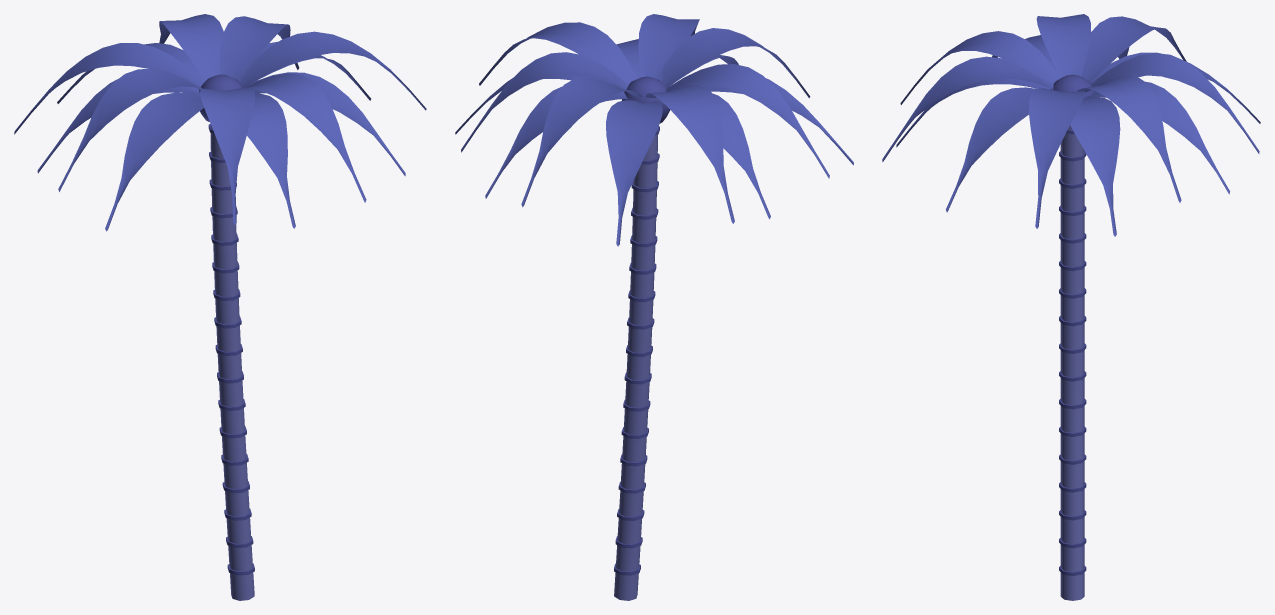
The model's file is palm.glb.
3 views of the same model, side by side, from view 1: azimuth 30°, elevation 25°; view 2: azimuth 150°, elevation 25°; view 3: azimuth 270°, elevation 25° (orthographic). The views are drawn at different scales.
Visible parts, largest first — view 1: baked0, baked10, baked11, baked13, baked9, baked15, baked1, baked7, baked12, baked3, baked5, baked14 (+2 smaller); view 2: baked0, baked6, baked7, baked1, baked5, baked9, baked15, baked11, baked3, baked13, baked8, baked4 (+1 smaller); view 3: baked0, baked2, baked15, baked1, baked3, baked14, baked13, baked7, baked5, baked9, baked11, baked4 (+2 smaller).
Boxes of the visible parts, <box> form: baked0: <box>210,123,254,600</box>; baked10: <box>105,92,203,231</box>; baked11: <box>200,87,255,224</box>; baked13: <box>245,73,366,202</box>; baked9: <box>58,68,202,191</box>; baked15: <box>239,31,426,110</box>; baked1: <box>199,74,254,575</box>; baked7: <box>14,43,204,134</box>; baked12: <box>247,93,295,228</box>; baked3: <box>219,16,299,80</box>; baked5: <box>159,14,223,80</box>; baked14: <box>244,72,405,176</box>; baked0: <box>614,134,657,600</box>; baked6: <box>606,100,662,246</box>; baked7: <box>645,85,734,223</box>; baked1: <box>614,76,669,575</box>; baked5: <box>521,77,642,207</box>; baked9: <box>666,64,829,178</box>; baked15: <box>479,22,637,85</box>; baked11: <box>657,28,810,98</box>; baked3: <box>461,52,628,152</box>; baked13: <box>638,14,699,81</box>; baked8: <box>653,93,770,219</box>; baked4: <box>485,86,630,198</box>; baked0: <box>1060,125,1084,600</box>; baked2: <box>1070,96,1120,236</box>; baked15: <box>1029,88,1085,228</box>; baked1: <box>1051,74,1094,576</box>; baked3: <box>1077,76,1181,202</box>; baked14: <box>945,87,1036,212</box>; baked13: <box>882,56,1053,161</box>; baked7: <box>1081,16,1186,82</box>; baked5: <box>1088,53,1259,153</box>; baked9: <box>1036,14,1090,77</box>; baked11: <box>900,31,1060,104</box>; baked4: <box>1084,81,1229,194</box>.
Size of the model in its own units: 6.76 by 9.77 by 6.34.
